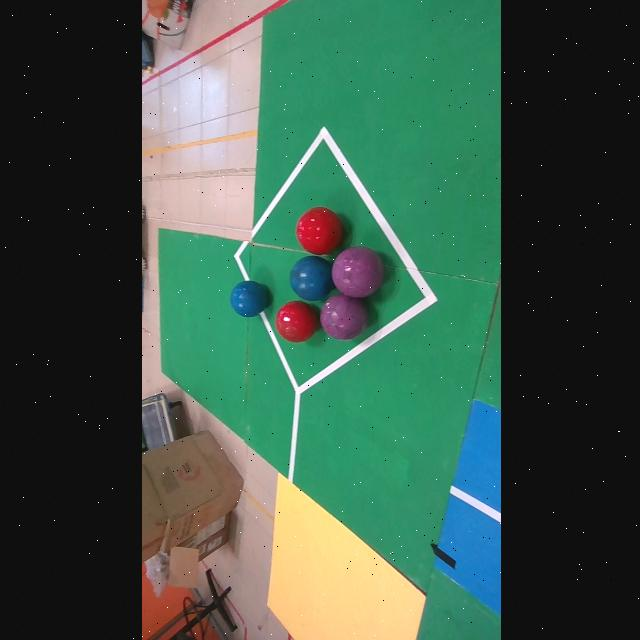B: (288, 256, 332, 300), (228, 281, 268, 318)
P: (330, 246, 383, 297), (319, 294, 367, 340)
R: (294, 208, 342, 255), (274, 301, 317, 343)
